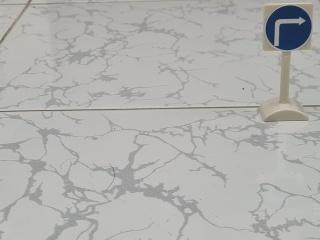right: (252, 0, 320, 66)
